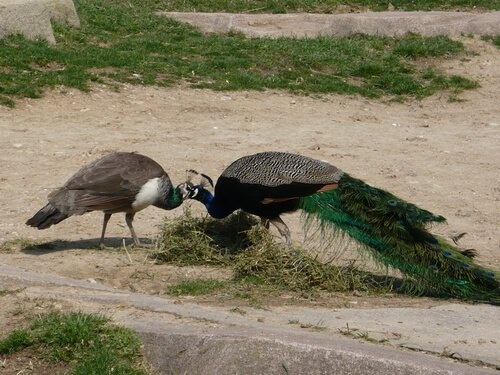pavoreal: (37, 153, 194, 221), (194, 154, 323, 236)
